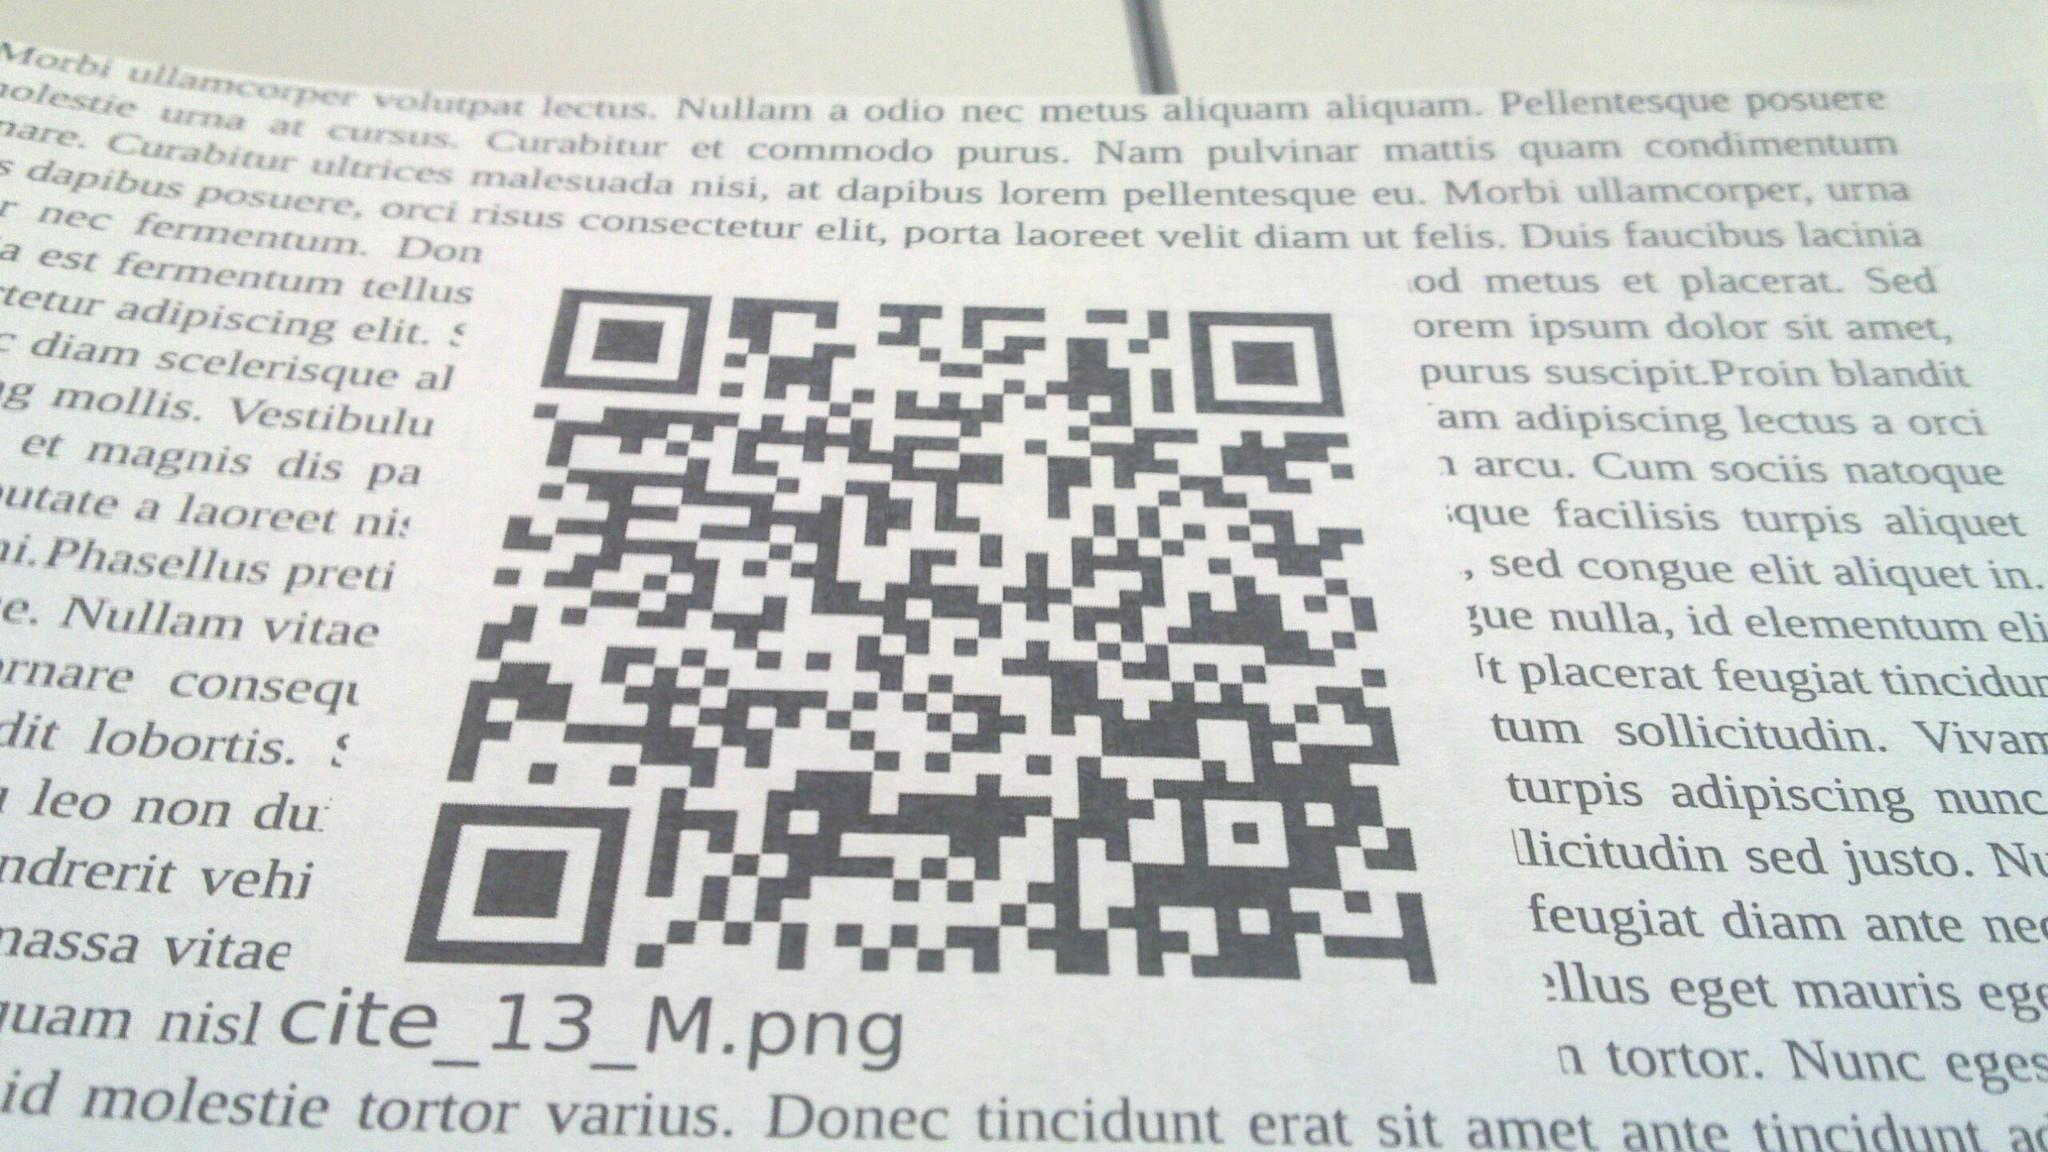Finder pattern: (405, 798, 636, 990), (537, 276, 720, 404), (1182, 302, 1357, 432)
